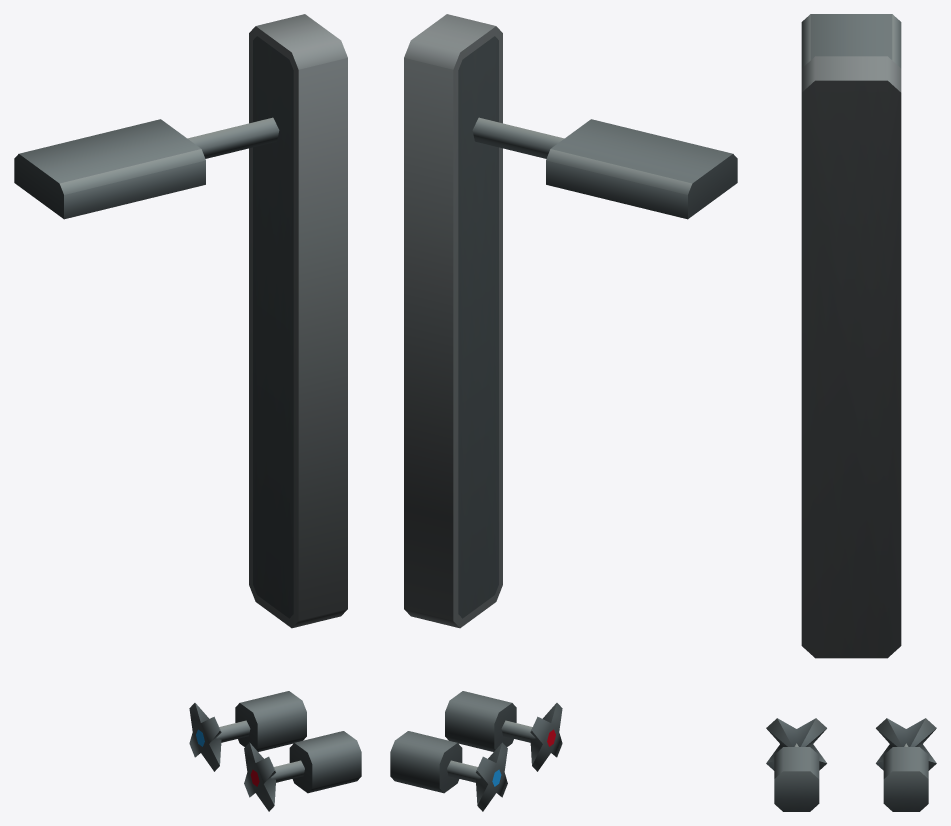
File: TSP_Bathroom_Wall_Faucet_02A.fbx
3 renders of one model, left to right at view 1: azimuth 30°, elevation 25°; view 2: azimuth 150°, elevation 25°; view 3: azimuth 270°, elevation 25°, orthographic.
Parts seen in each view (by area): view 1: TSP_Bathroom_Wall_Faucet_02A; view 2: TSP_Bathroom_Wall_Faucet_02A; view 3: TSP_Bathroom_Wall_Faucet_02A.
Part boxes in pixels (x1=…): TSP_Bathroom_Wall_Faucet_02A: x1=14, y1=14, x2=361, y2=811; TSP_Bathroom_Wall_Faucet_02A: x1=390, y1=14, x2=737, y2=811; TSP_Bathroom_Wall_Faucet_02A: x1=766, y1=14, x2=936, y2=811.
Size of the model in its own units: 0.6 by 1.49 by 0.312.
